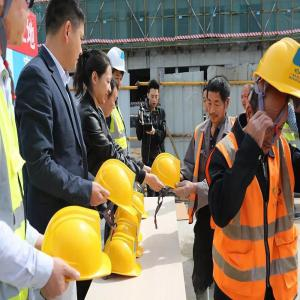none: (44, 3, 87, 74), (83, 49, 113, 106), (206, 74, 232, 125), (147, 79, 162, 107), (241, 83, 255, 110)
white: (109, 47, 127, 93)
yellow: (246, 45, 298, 150)
